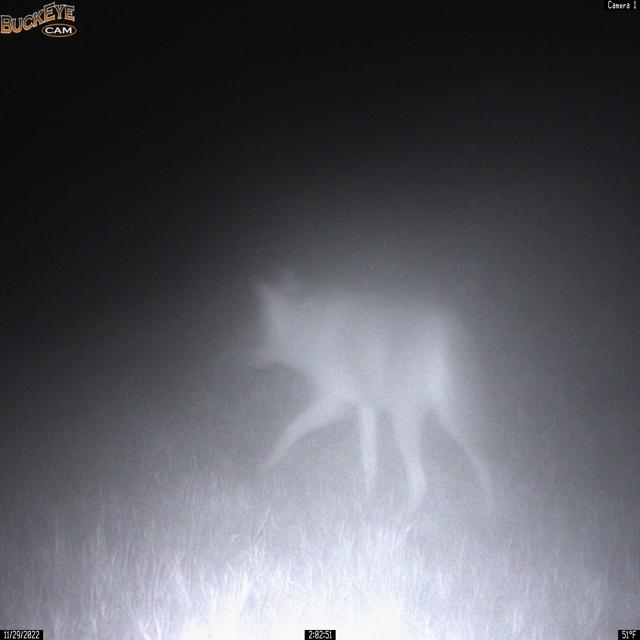coyote: (244, 267, 501, 522)
